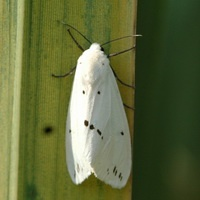insect: (65, 29, 136, 188)
